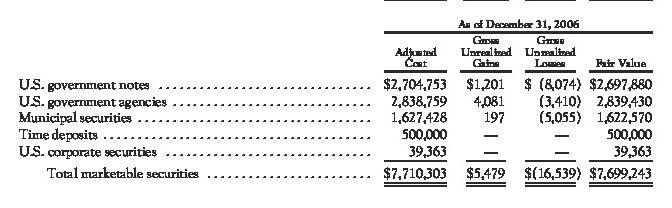table: (0, 0, 672, 208)
